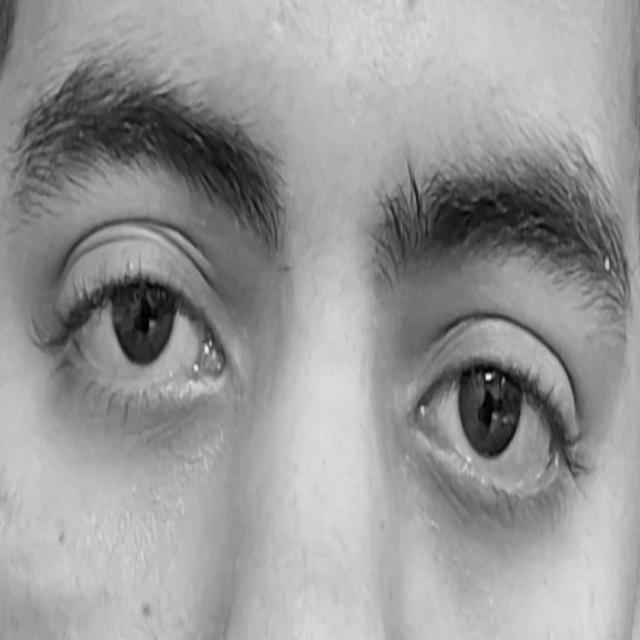real: (24, 110, 616, 562)
